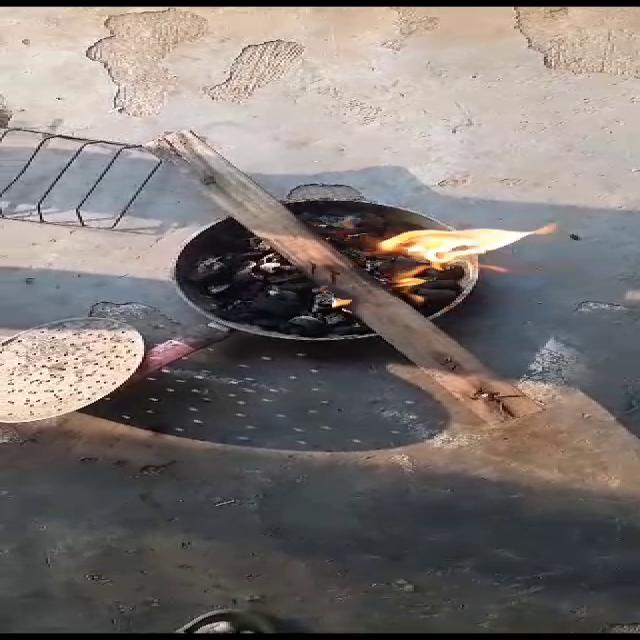Fire: (337, 224, 570, 295)
